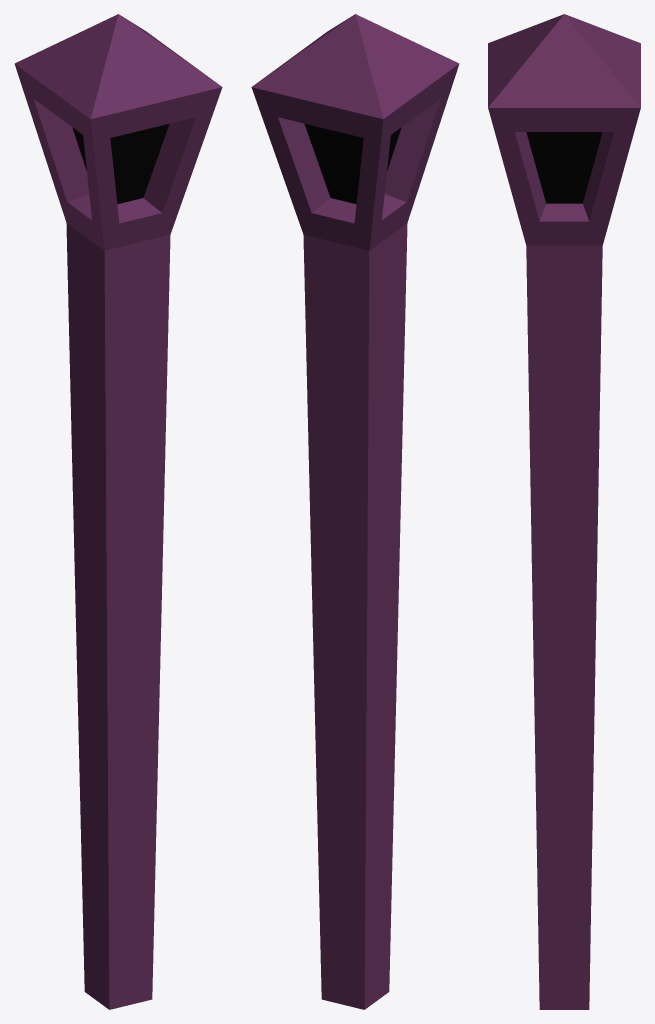
The model's file is BlackWand.fbx.
3 views of the same model, side by side, from view 1: azimuth 30°, elevation 25°; view 2: azimuth 150°, elevation 25°; view 3: azimuth 270°, elevation 25° (orthographic).
Parts seen in each view (by area): view 1: Cube.006; view 2: Cube.006; view 3: Cube.006.
Part boxes in pixels (<box>): Cube.006: <box>14,14,222,1009</box>; Cube.006: <box>251,14,459,1009</box>; Cube.006: <box>488,14,640,1009</box>.
Bounding box in the file's own units: 22.5 × 160 × 22.5.
